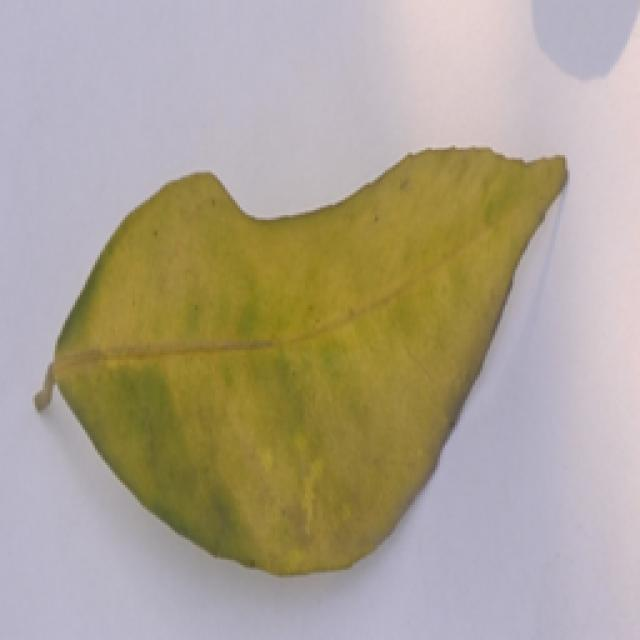greening: (23, 128, 584, 593)
